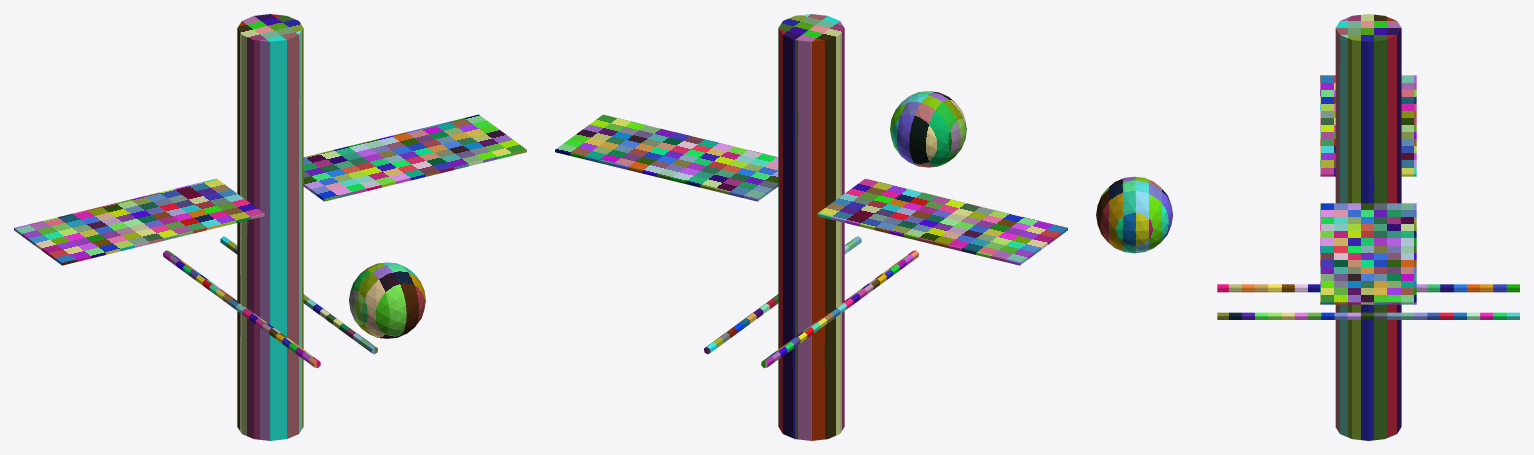
The model's file is mosquito.glb.
3 renders of one model, left to right at view 1: azimuth 30°, elevation 25°; view 2: azimuth 150°, elevation 25°; view 3: azimuth 270°, elevation 25°, orthographic.
Visible parts, largest first — view 1: mesh_0; view 2: mesh_0; view 3: mesh_0.
Boxes of the visible parts, box(x1,y1,x2,y2) form: mesh_0: box(14, 14, 526, 440); mesh_0: box(555, 14, 1067, 440); mesh_0: box(1096, 14, 1519, 440).
Bounding box in the file's own units: 1.95 × 1.6 × 1.54.
Materials: 1 (1 with a texture image).
